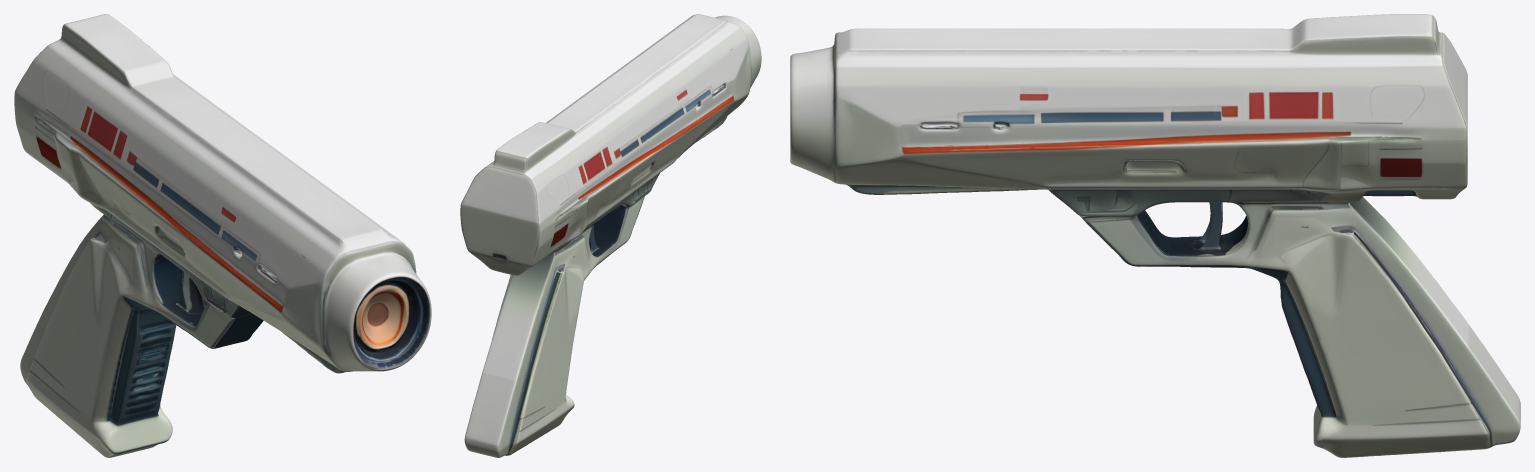
The model's file is Ray gun 02.fbx.
3 views of the same model, side by side, from view 1: azimuth 30°, elevation 25°; view 2: azimuth 150°, elevation 25°; view 3: azimuth 270°, elevation 25° (orthographic). The views are drawn at different scales.
Parts seen in each view (by area): view 1: Ray gun 02; view 2: Ray gun 02; view 3: Ray gun 02.
Part boxes in pixels (box(x1,y1,x2,y2)): Ray gun 02: box(14, 14, 431, 457); Ray gun 02: box(460, 14, 761, 457); Ray gun 02: box(790, 14, 1520, 457).
Size of the model in its own units: 38.76 by 121 by 190.
1 material, 1 textured.
